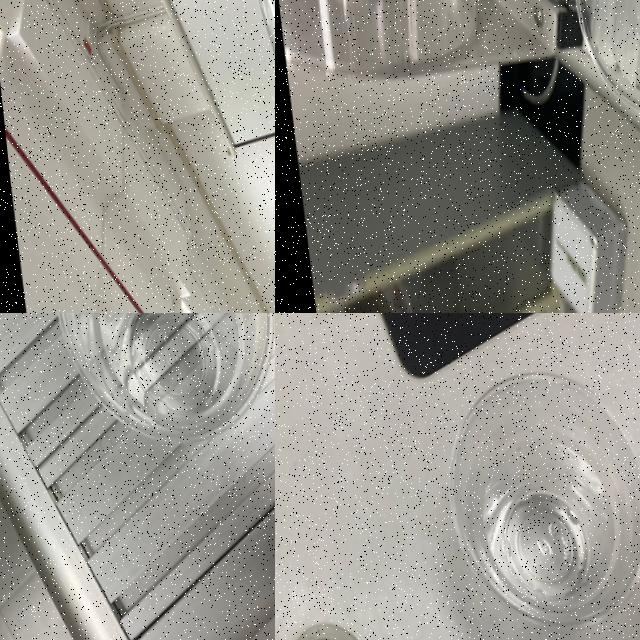glass: (417, 353, 640, 640), (30, 313, 275, 454), (552, 0, 640, 120)
